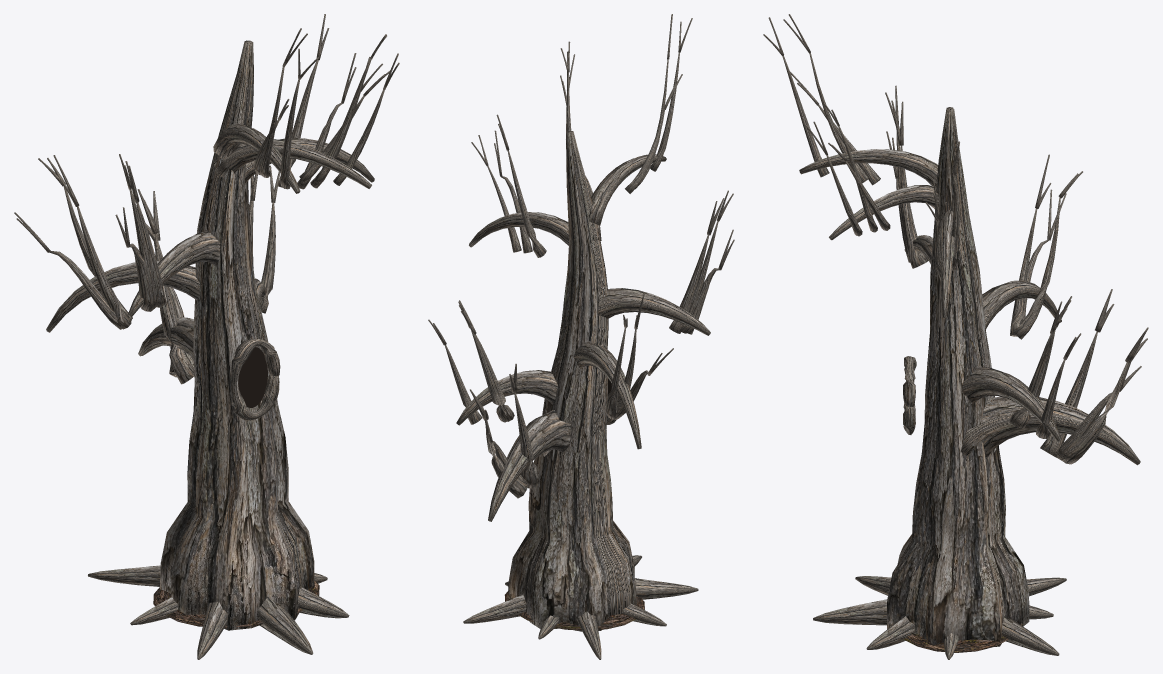
File: hollow-sentinel-v02.glb
3 renders of one model, left to right at view 1: azimuth 30°, elevation 25°; view 2: azimuth 150°, elevation 25°; view 3: azimuth 270°, elevation 25°, orthographic. The views are drawn at different scales.
Visible parts, largest first — view 1: deeply furrowed winding trunk, gnarled cavity rim, massive gnarled bough.003, massive gnarled bough.006, massive gnarled bough.004, massive gnarled bough.005, radiating buttress root.006, forked weathered limb.006, deep hollow cavity, massive gnarled bough.002, forked weathered limb.011, radiating buttress root.003 (+16 smaller); view 2: deeply furrowed winding trunk, massive gnarled bough.002, massive gnarled bough.004, massive gnarled bough.003, massive gnarled bough.001, massive gnarled bough, massive gnarled bough.005, radiating buttress root.005, radiating buttress root.001, forked weathered limb.006, subtle root and soil mound, forked weathered limb (+9 smaller); view 3: deeply furrowed winding trunk, massive gnarled bough.002, massive gnarled bough.001, massive gnarled bough.005, massive gnarled bough.003, massive gnarled bough.006, radiating buttress root.006, massive gnarled bough, forked weathered limb.008, forked weathered limb.009, radiating buttress root.001, forked weathered limb.006 (+10 smaller).
Part boxes in pixels (x1,y1,x2,y2): deeply furrowed winding trunk: [160, 40, 314, 630]; gnarled cavity rim: [230, 338, 280, 420]; massive gnarled bough.003: [46, 260, 199, 332]; massive gnarled bough.006: [214, 139, 371, 188]; massive gnarled bough.004: [128, 230, 220, 316]; massive gnarled bough.005: [213, 123, 300, 193]; radiating buttress root.006: [256, 597, 313, 654]; forked weathered limb.006: [155, 233, 194, 384]; deep hollow cavity: [238, 347, 267, 407]; massive gnarled bough.002: [138, 317, 193, 358]; forked weathered limb.011: [77, 206, 131, 329]; radiating buttress root.003: [88, 565, 160, 586]; deeply furrowed winding trunk: [508, 131, 636, 631]; massive gnarled bough.002: [488, 410, 570, 521]; massive gnarled bough.004: [598, 288, 710, 335]; massive gnarled bough.003: [573, 341, 641, 449]; massive gnarled bough.001: [456, 370, 557, 425]; massive gnarled bough: [469, 212, 568, 247]; massive gnarled bough.005: [588, 154, 666, 225]; radiating buttress root.005: [634, 578, 698, 599]; radiating buttress root.001: [463, 595, 526, 623]; forked weathered limb.006: [514, 393, 539, 488]; subtle root and soil mound: [504, 591, 644, 630]; forked weathered limb: [507, 150, 546, 257]; deeply furrowed winding trunk: [887, 107, 1029, 650]; massive gnarled bough.002: [960, 396, 1140, 465]; massive gnarled bough.001: [961, 367, 1061, 441]; massive gnarled bough.005: [799, 149, 937, 186]; massive gnarled bough.003: [982, 280, 1061, 329]; massive gnarled bough.006: [829, 185, 938, 240]; radiating buttress root.006: [813, 599, 887, 625]; massive gnarled bough: [940, 209, 960, 318]; forked weathered limb.008: [1059, 363, 1127, 464]; forked weathered limb.009: [1013, 197, 1060, 339]; radiating buttress root.001: [1001, 616, 1059, 655]; forked weathered limb.006: [1040, 331, 1097, 457].
Size of the model in its own units: 4.97 by 10.22 by 5.96.
3 materials, 2 textured.
